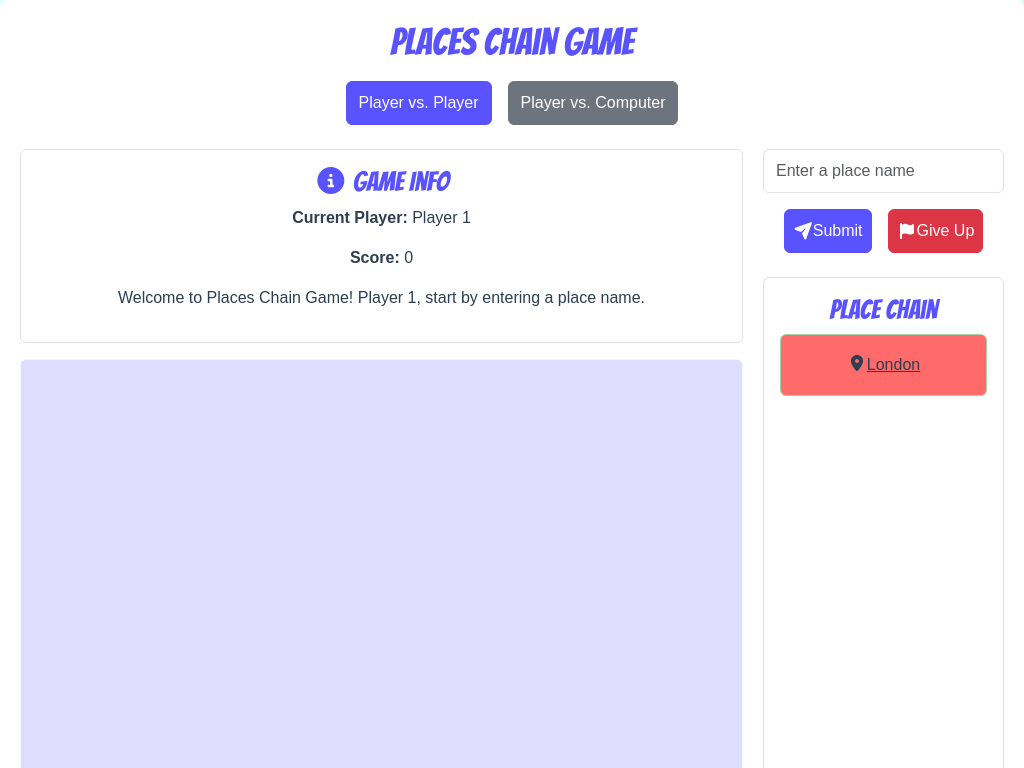
App › prevents submission if place has already been used
Type "London" into the field with placeholder "Enter a place name".
click(884, 171); type("London")  # box [763, 149, 1004, 193]
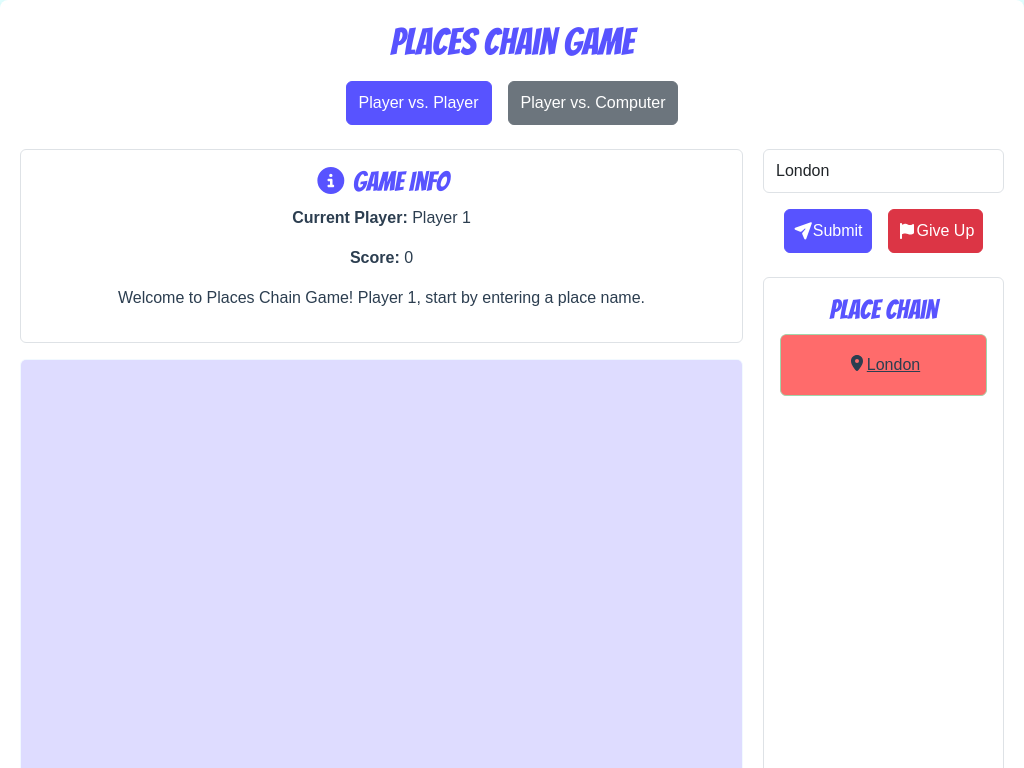
Click the button "Submit".
click(828, 231)  # box [784, 209, 872, 253]
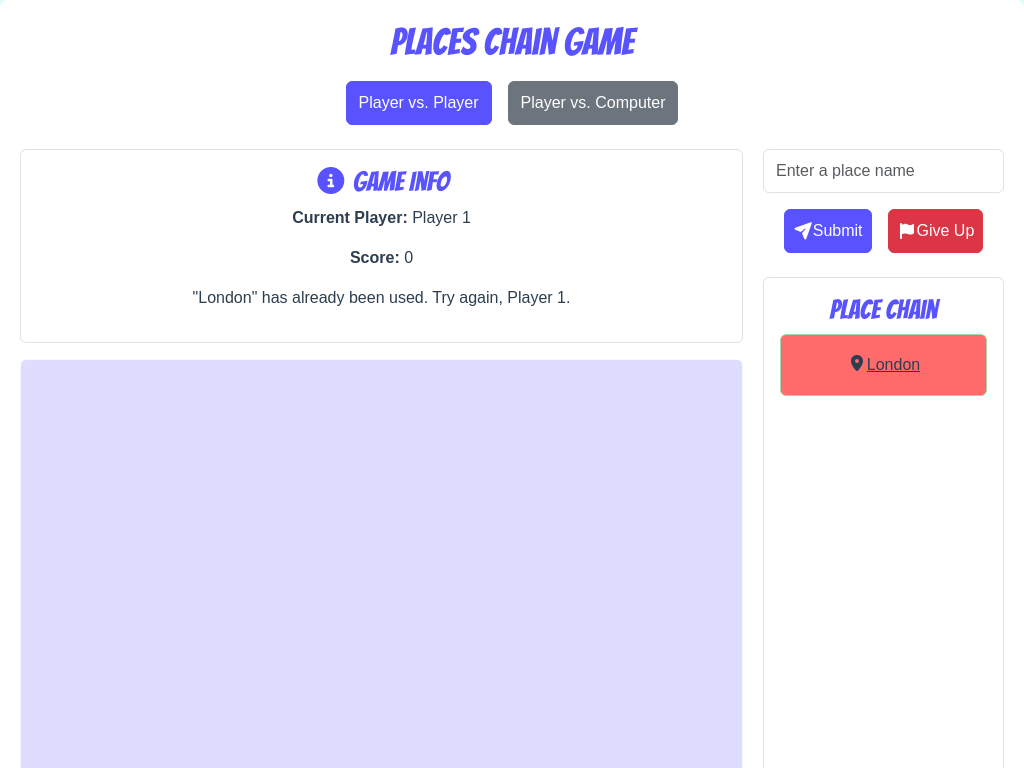
Check: the text "\"London\" has already been used. Try again, Player 1." is shown, box [193, 289, 570, 306]
